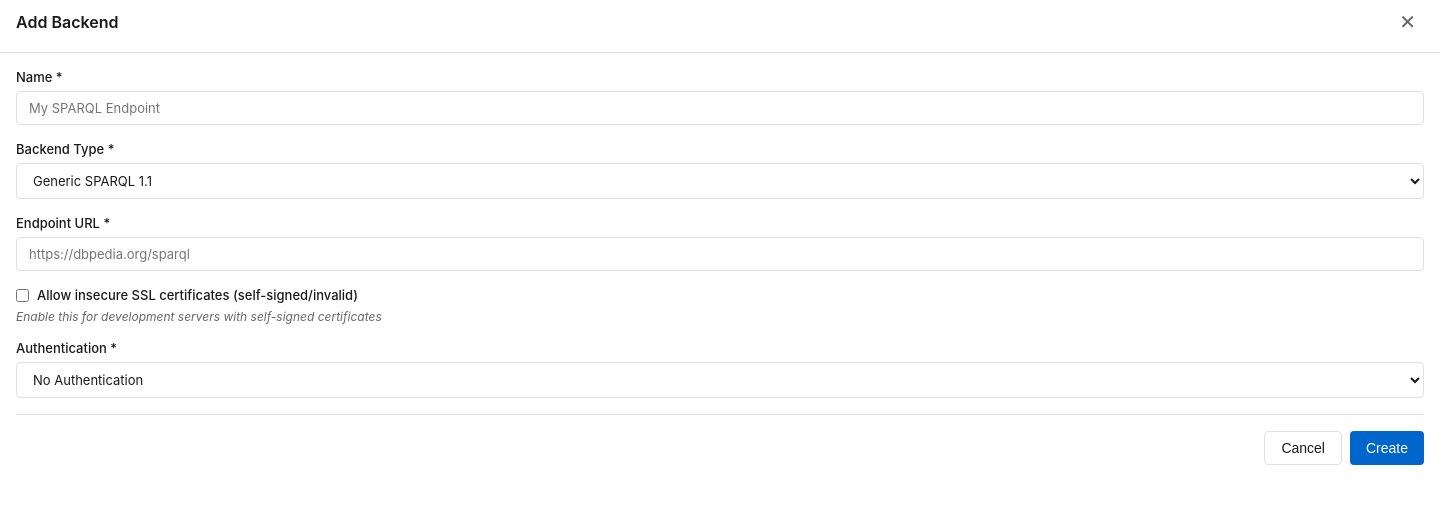
Test: ConnectionForm - create mode basics › rejects non-http(s) and malformed endpoints
Type "X" into the field with id "name" at point(720, 108), box x1=16 y1=91 x2=1424 y2=125
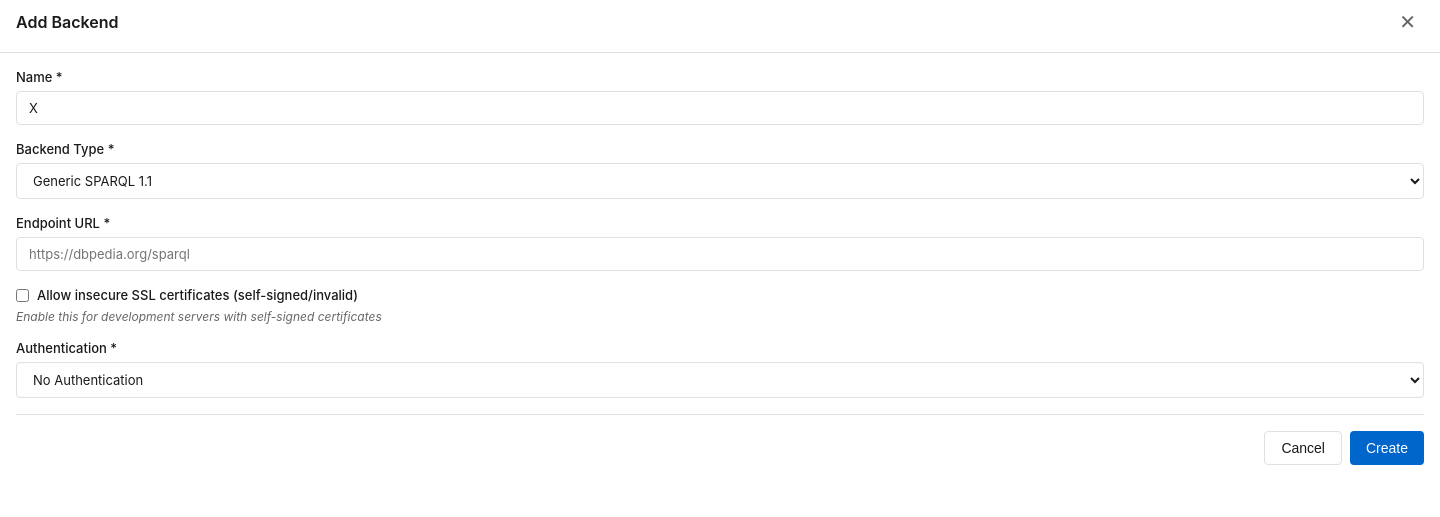
Type "ftp://ex.org" into the field with id "endpoint" at point(720, 254), box x1=16 y1=237 x2=1424 y2=271
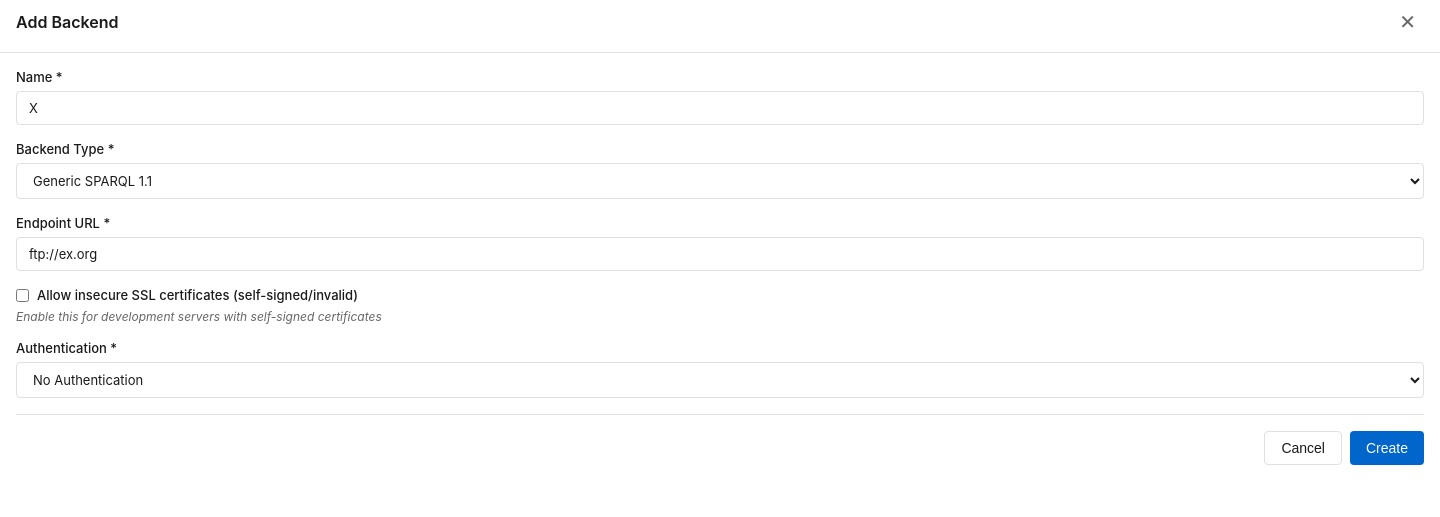
Submit the form
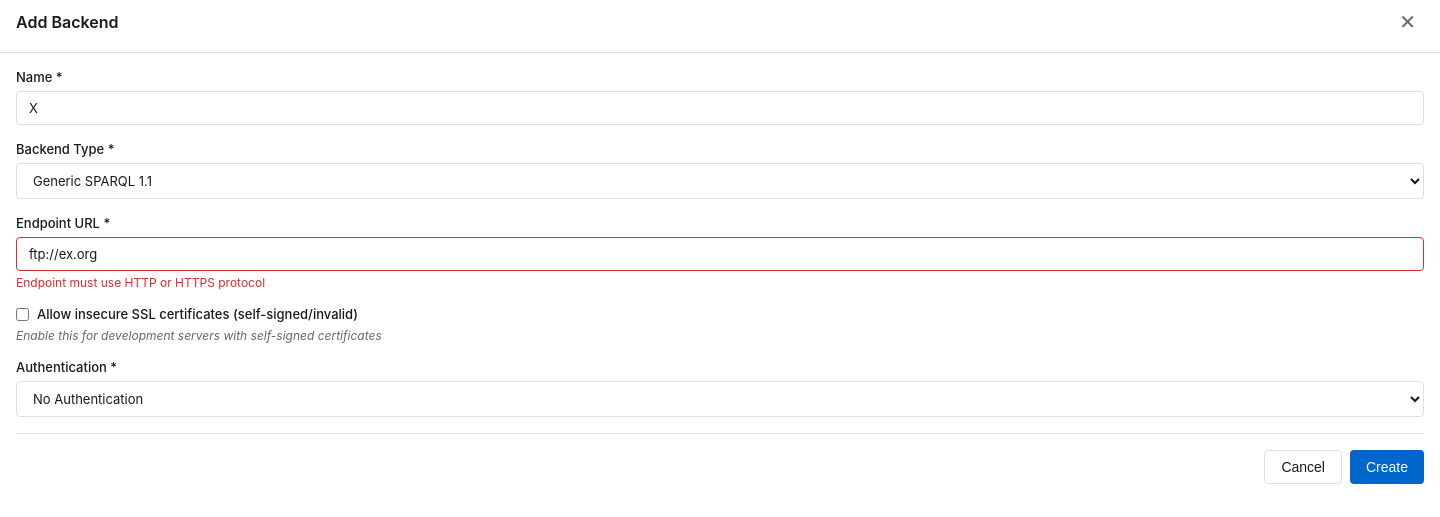
Expected: the text "Endpoint must use HTTP or HTTPS protocol" is shown, x1=16 y1=275 x2=265 y2=290
Replace the text in the field with id "endpoint" with "not a url" at point(720, 254), box x1=16 y1=237 x2=1424 y2=271
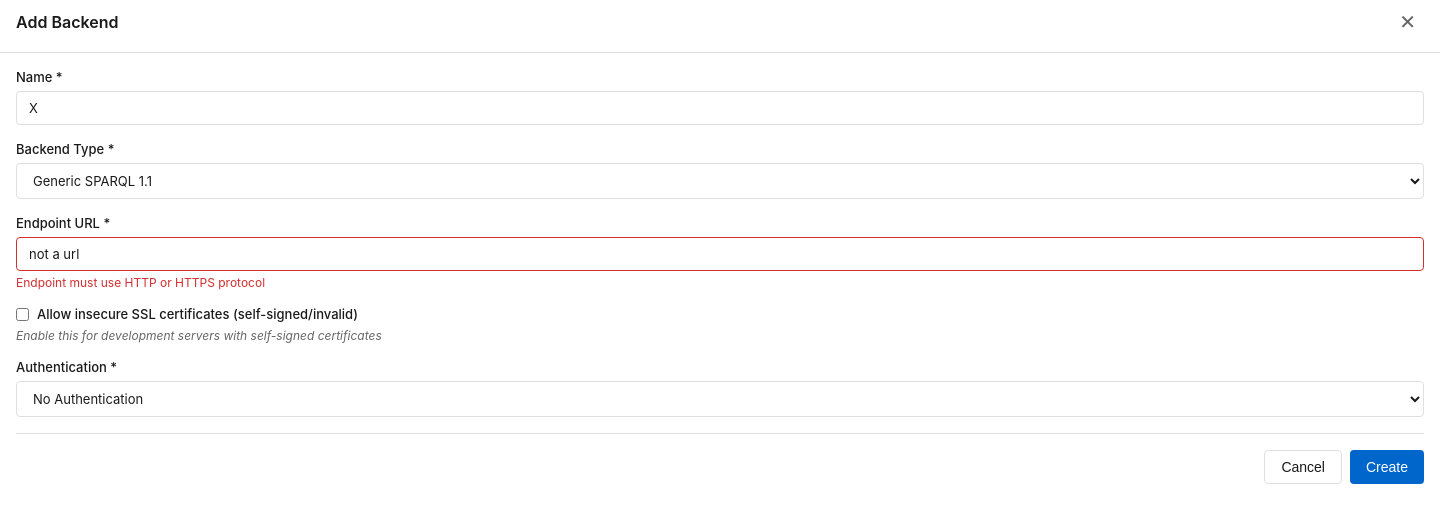
Submit the form
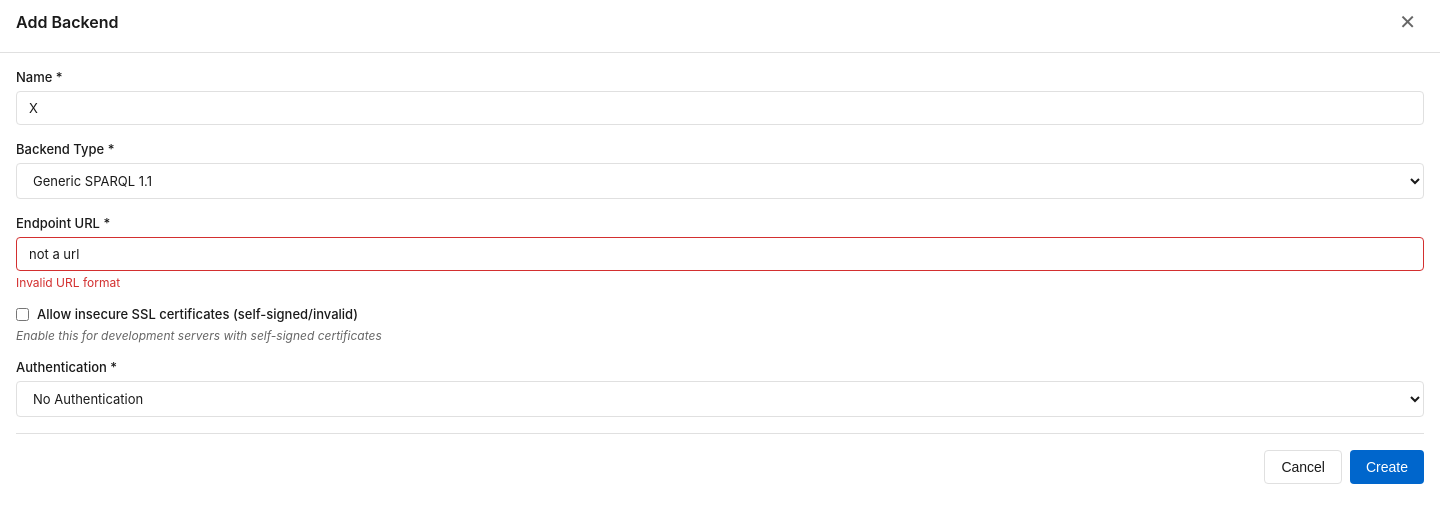
Expected: the text "Invalid URL format" is shown, x1=16 y1=275 x2=120 y2=290
